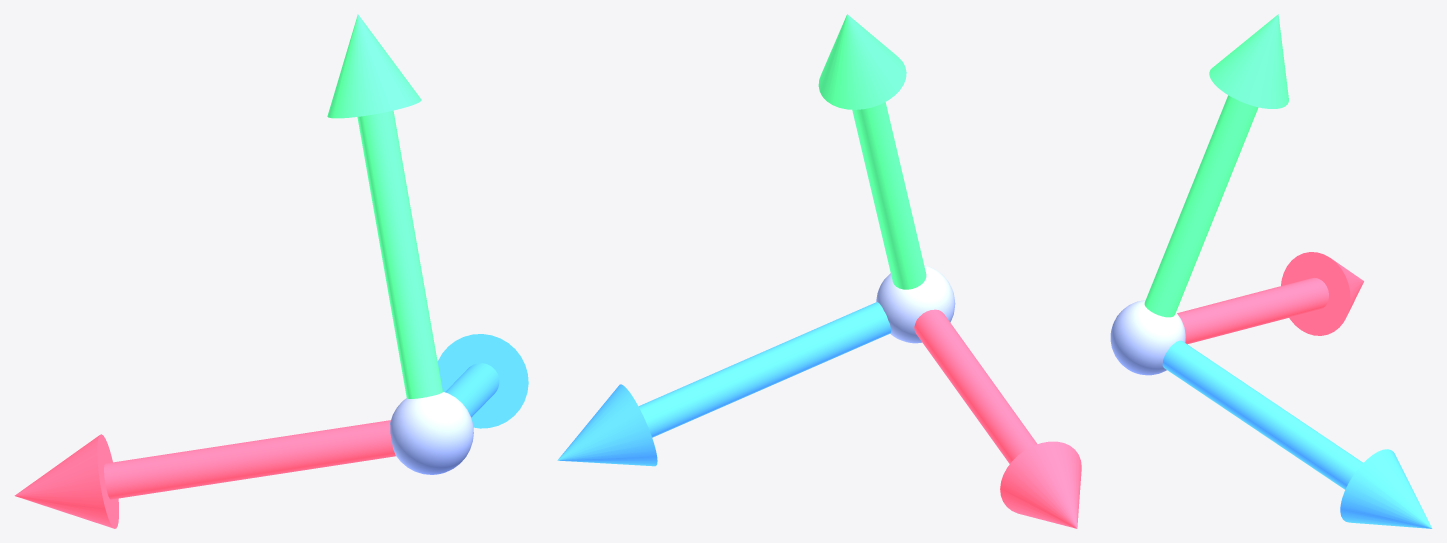
File: axes.glb
The picture shows the model from 3 angles, left to right: view 1: azimuth 30°, elevation 25°; view 2: azimuth 150°, elevation 25°; view 3: azimuth 270°, elevation 25°; orthographic projection. The views are drawn at different scales.
Visible parts, largest first — view 1: axes_y, axes_x, axes_z, axes_origin; view 2: axes_z, axes_y, axes_x, axes_origin; view 3: axes_y, axes_z, axes_x, axes_origin.
Boxes of the visible parts, left/top/right/bottom form: axes_y: left=327, top=14, right=442, bottom=398; axes_x: left=14, top=420, right=395, bottom=528; axes_z: left=437, top=334, right=528, bottom=428; axes_origin: left=390, top=392, right=473, bottom=474; axes_z: left=557, top=302, right=891, bottom=466; axes_y: left=818, top=14, right=926, bottom=289; axes_x: left=914, top=309, right=1081, bottom=528; axes_origin: left=876, top=265, right=955, bottom=343; axes_y: left=1144, top=14, right=1288, bottom=317; axes_z: left=1162, top=340, right=1432, bottom=528; axes_x: left=1177, top=252, right=1363, bottom=344; axes_origin: left=1110, top=300, right=1185, bottom=375.
Size of the model in its own units: 0.0764 by 0.0687 by 0.0462.
